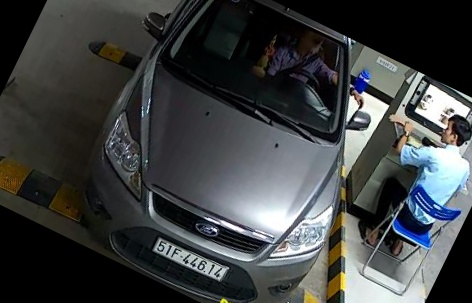plate: (147, 234, 234, 286)
